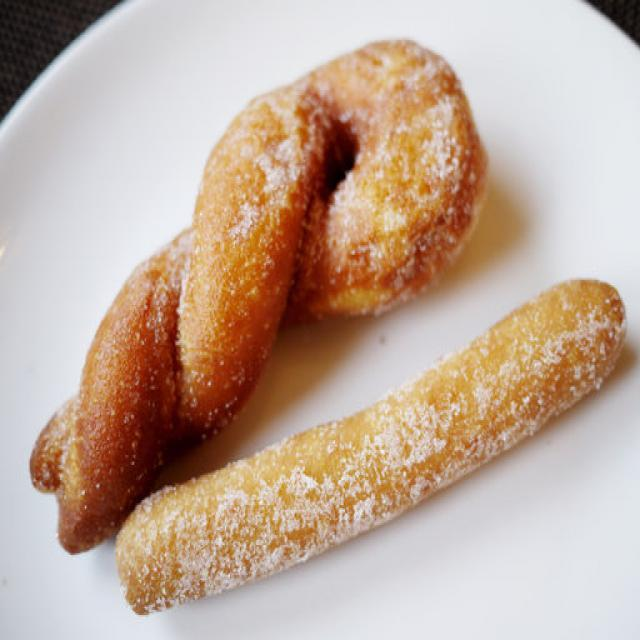Donuts: (29, 25, 640, 589)
